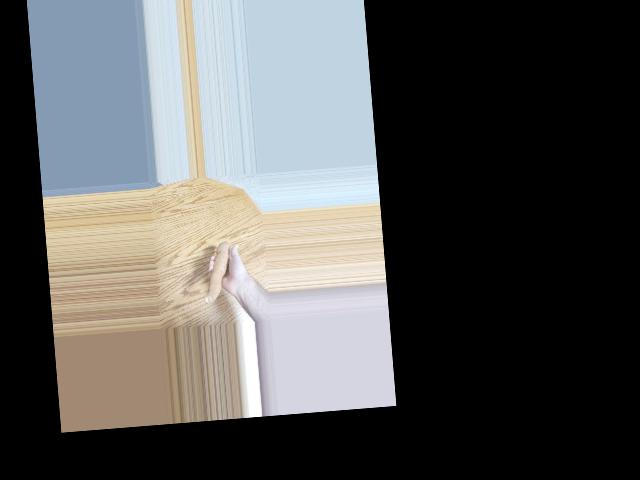sweet_potato: (201, 241, 235, 305)
